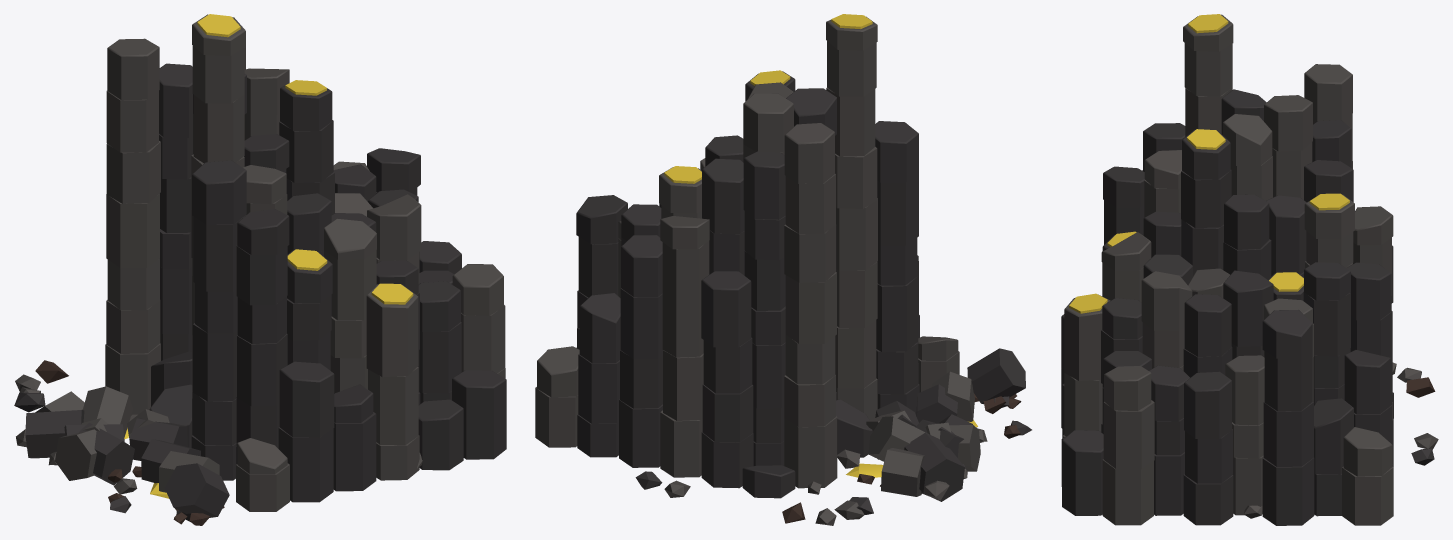
Rendered from columns.glb.
3 views of the same model, side by side, from view 1: azimuth 30°, elevation 25°; view 2: azimuth 150°, elevation 25°; view 3: azimuth 270°, elevation 25° (orthographic). The views are drawn at different scales.
Visible parts, largest first — view 1: columns; view 2: columns; view 3: columns.
Part boxes in pixels (x1,y1,x2,y2): columns: (14,14,506,525); columns: (535,14,1031,525); columns: (1061,14,1438,525).
Size of the model in its own units: 16.59 by 17.53 by 14.79.
